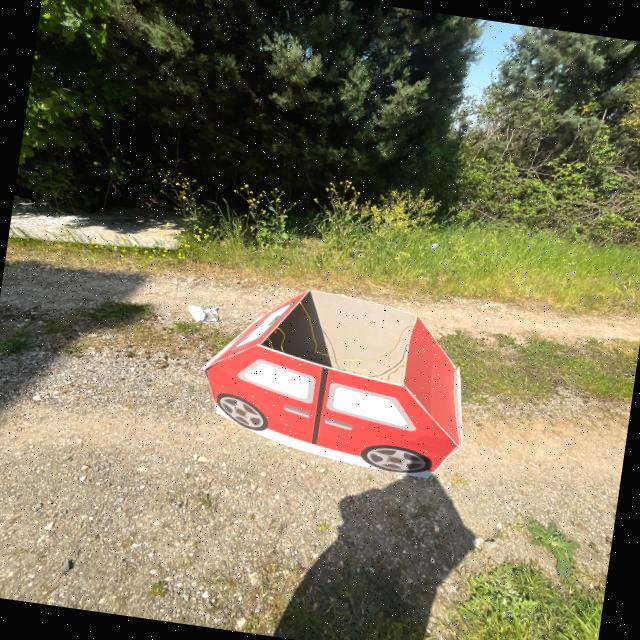red_car: (184, 265, 502, 504)
